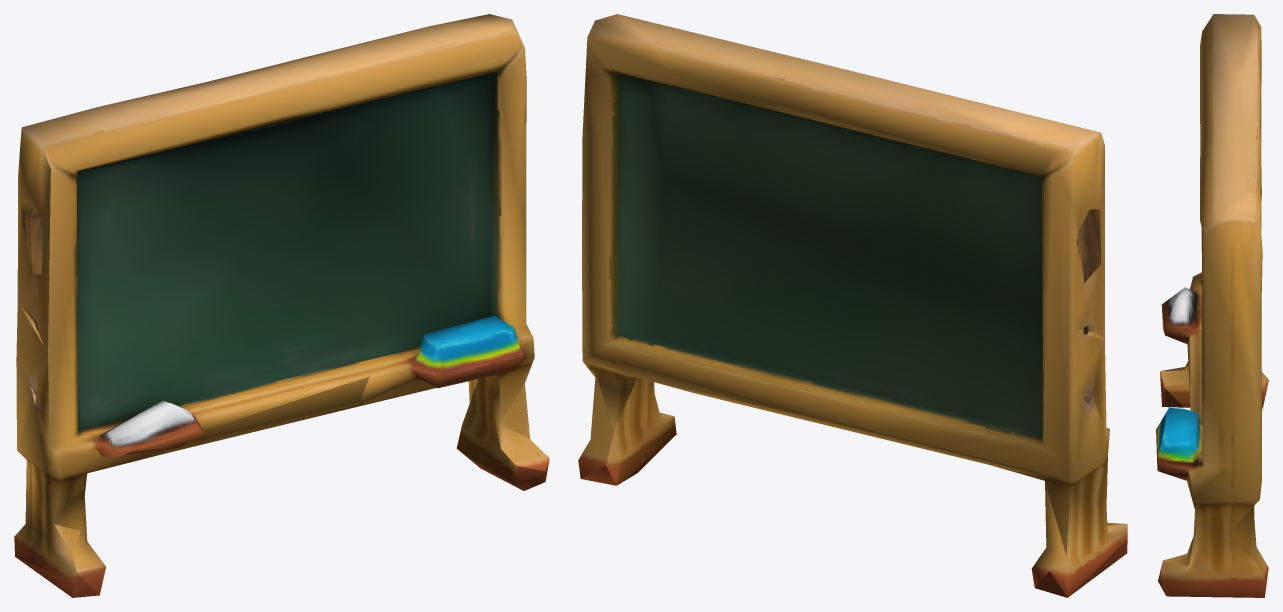
File: chalkboard.glb
3 renders of one model, left to right at view 1: azimuth 30°, elevation 25°; view 2: azimuth 150°, elevation 25°; view 3: azimuth 270°, elevation 25°, orthographic. The views are drawn at different scales.
Visible parts, largest first — view 1: geometry_0.001; view 2: geometry_0.001; view 3: geometry_0.001.
Part boxes in pixels (bbox=[...]): geometry_0.001: bbox=[14, 14, 549, 597]; geometry_0.001: bbox=[578, 14, 1127, 597]; geometry_0.001: bbox=[1156, 14, 1268, 597].
Size of the model in its own units: 1 by 0.8666 by 0.2311.
1 material, 1 textured.
